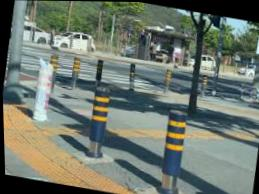Animal: (151, 106, 193, 194), (75, 87, 113, 158), (63, 53, 84, 87), (91, 57, 109, 85), (122, 61, 135, 93), (156, 71, 172, 96), (197, 75, 209, 98)
